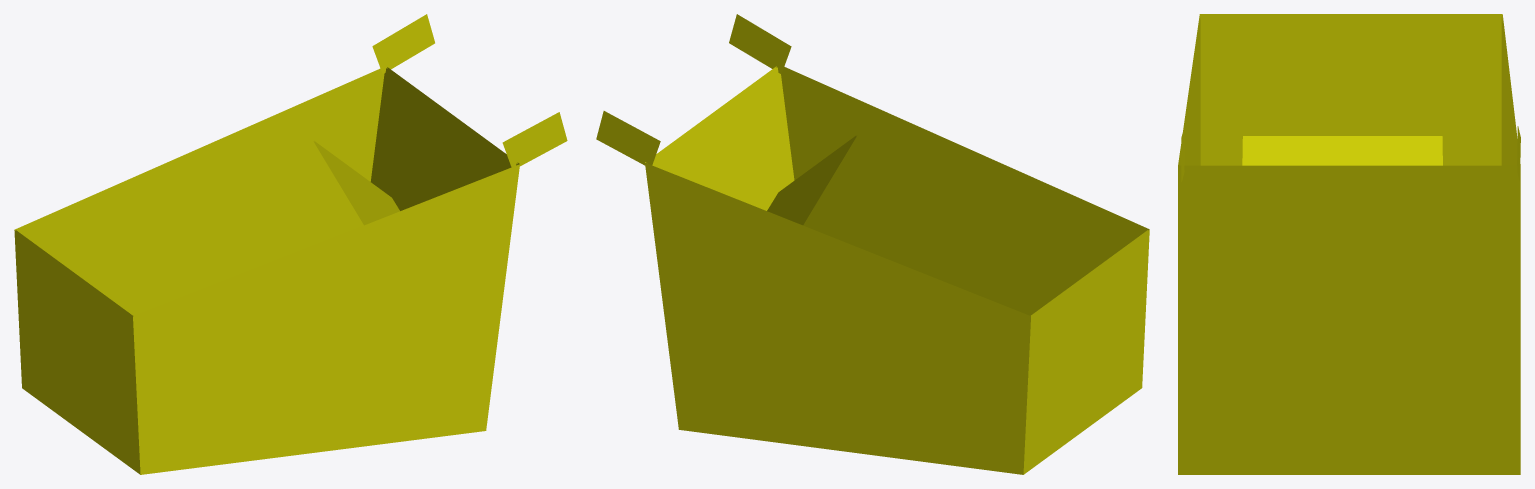
Rendered from Shopping_Cart_03_Alpha.fbx.
3 views of the same model, side by side, from view 1: azimuth 30°, elevation 25°; view 2: azimuth 150°, elevation 25°; view 3: azimuth 270°, elevation 25° (orthographic). The views are drawn at different scales.
Visible parts, largest first — view 1: Shopping_Cart_03_Alpha; view 2: Shopping_Cart_03_Alpha; view 3: Shopping_Cart_03_Alpha.
Part boxes in pixels (box(x1,y1,x2,y2)): Shopping_Cart_03_Alpha: box(14, 14, 567, 474); Shopping_Cart_03_Alpha: box(596, 14, 1149, 474); Shopping_Cart_03_Alpha: box(1178, 14, 1520, 474).
Bounding box in the file's own units: 95.57 × 64.19 × 51.93.
